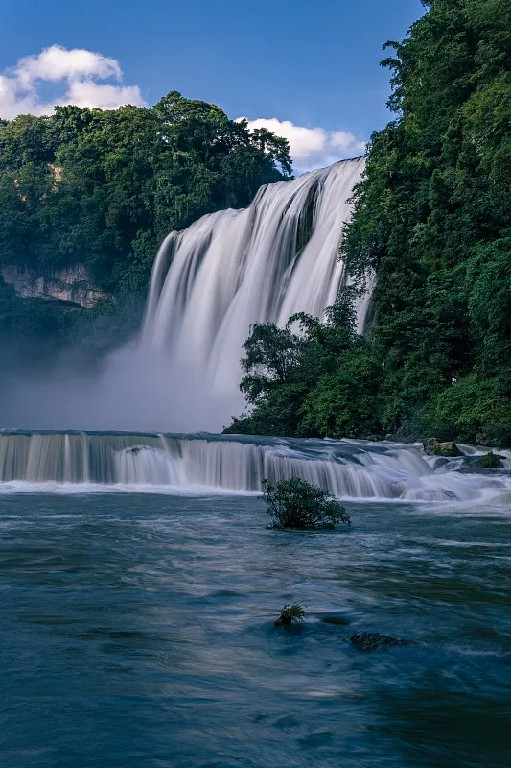Huangguoshu: (143, 156, 376, 431)
